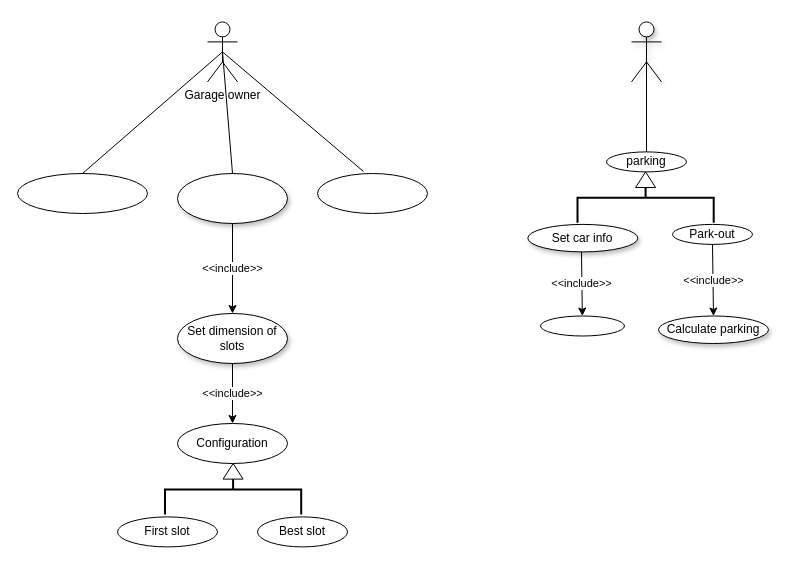
The diagram is 795 pixels wide and 564 high, and some of its shapes have lost their labels. Each missing label, with the centre of its shape:
"Calculate total income" belongs at pixel 82 193.
"Display available slots" belongs at pixel 372 193.
"Park-in" belongs at pixel 582 325.
"setup Garage" belongs at pixel 233 199.
"Vehicle owner" belongs at pixel 647 53.
